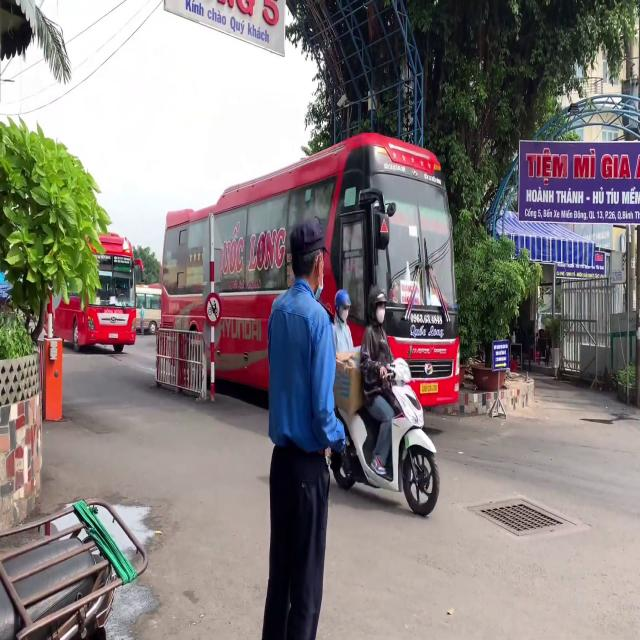bien_vang: (420, 383, 439, 394)
